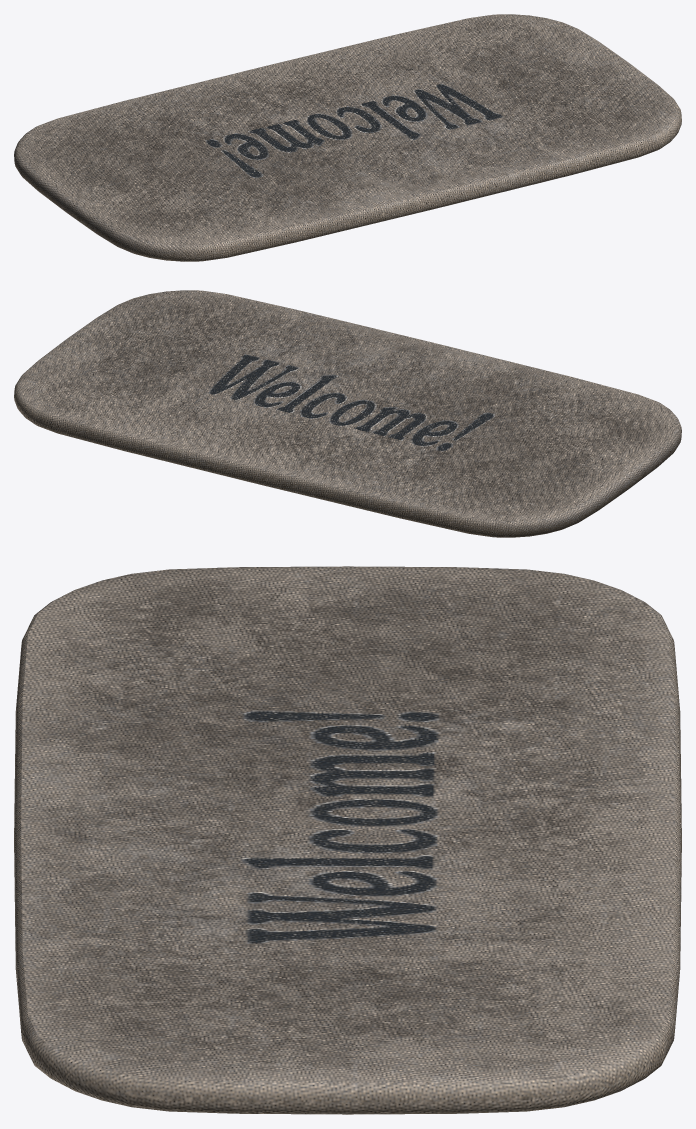
Rendered from welcome mat.fbx.
3 renders of one model, top to bottom at view 1: azimuth 30°, elevation 25°; view 2: azimuth 150°, elevation 25°; view 3: azimuth 270°, elevation 25°, orthographic. The views are drawn at different scales.
Parts seen in each view (by area): view 1: WelcomeMat_low; view 2: WelcomeMat_low; view 3: WelcomeMat_low.
Part boxes in pixels (bbox=[...]): WelcomeMat_low: bbox=[14, 14, 681, 261]; WelcomeMat_low: bbox=[14, 290, 681, 537]; WelcomeMat_low: bbox=[14, 566, 681, 1114].
Size of the model in its own units: 0.7627 by 0.0227 by 0.41.
1 material, 1 textured.
